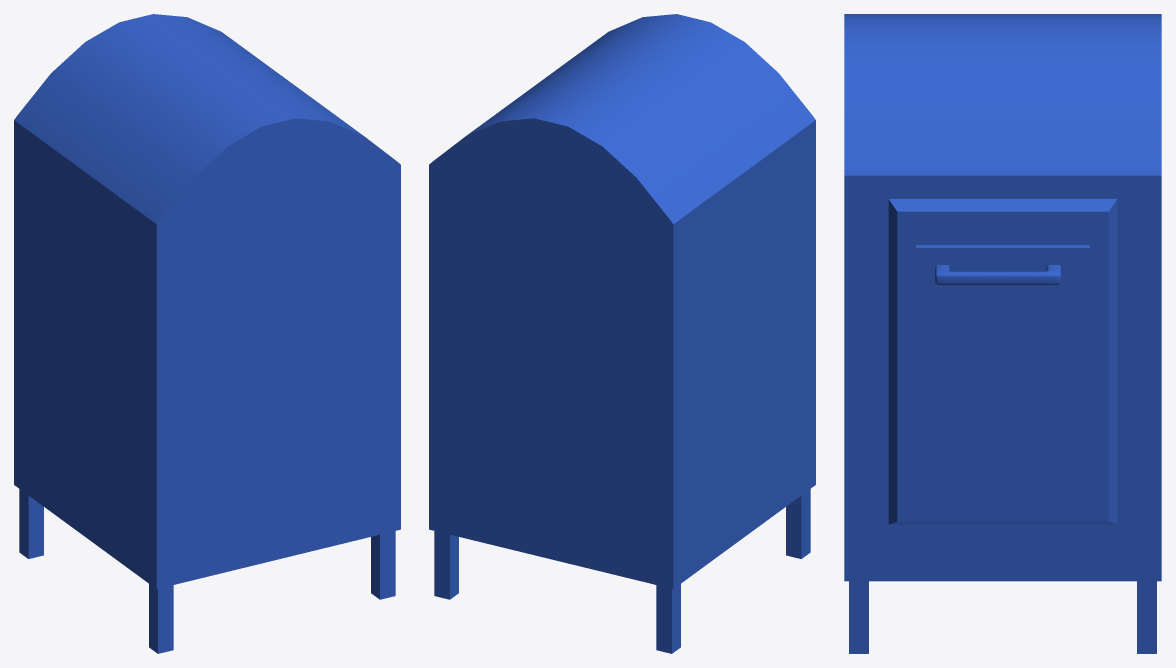
Rendered from Mailbox.FBX.
The picture shows the model from 3 angles, left to right: view 1: azimuth 30°, elevation 25°; view 2: azimuth 150°, elevation 25°; view 3: azimuth 270°, elevation 25°; orthographic projection. The views are drawn at different scales.
Parts seen in each view (by area): view 1: Box001; view 2: Box001; view 3: Box001.
Part boxes in pixels (left/top/right/bottom): Box001: left=14, top=14, right=400, bottom=653; Box001: left=429, top=14, right=815, bottom=653; Box001: left=844, top=14, right=1161, bottom=653.
Bounding box in the file's own units: 39.39 × 70.18 × 35.97.
Materials: 1 (1 with a texture image).
